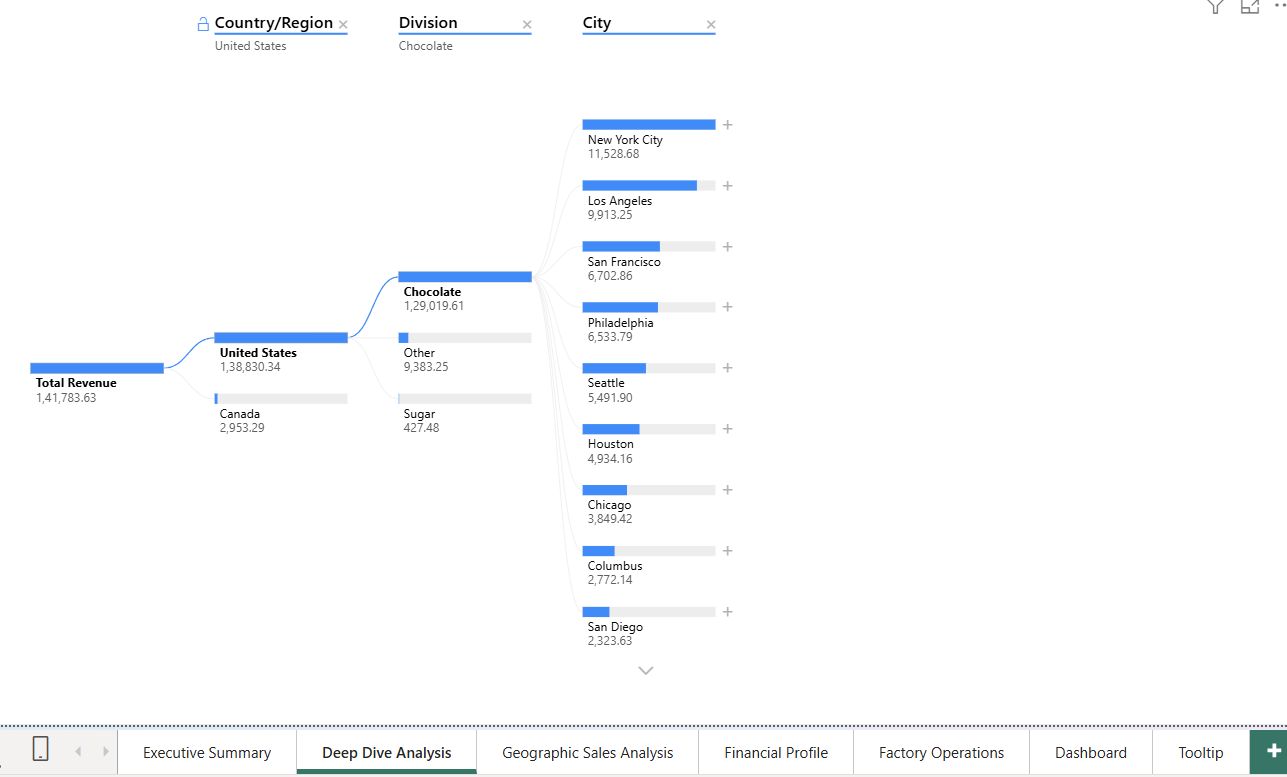

This screenshot's page, from the dashboard's own definition file:
{"tool":"powerbi","page":{"name":"Deep Dive Analysis","canvas":[1280,720],"ordinal":1},"visuals":[{"type":"decompositionTreeVisual","fields":{"Analyze":["Candy_Sales.Total Revenue"],"ExplainBy":["Candy_Sales.Country/Region","Candy_Sales.Division","Candy_Sales.City","Candy_Products.Factory","Candy_Sales.Region","Candy_Sales.Product Name"]},"box":[0,0,1279.7,720.3],"z":0}]}

Visuals, with their boxes on the page's 1280x720 design canvas (x1, y1, x2, y2). These are canvas units, not pixel positions in the 1287x777 screenshot, which may show the page scaled, cropped or inside an application window:
decompositionTreeVisual - Candy_Sales.Total Revenue x Candy_Sales.Country/Region: 0/0/1280/720
